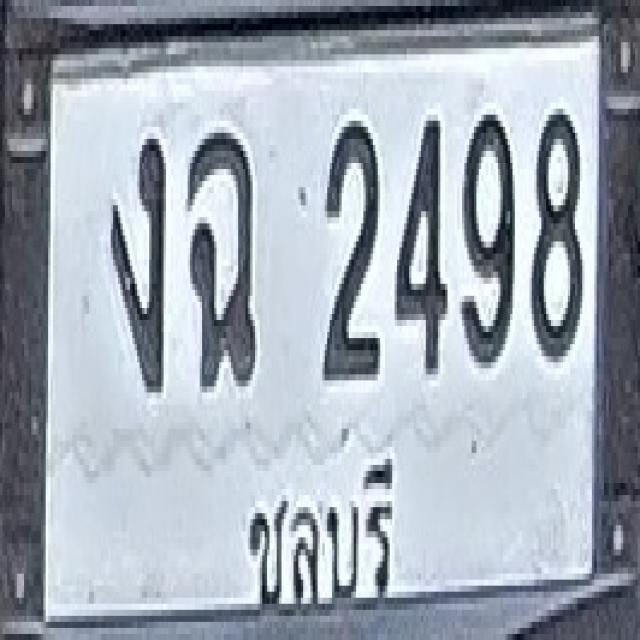-: (186, 127, 256, 386), (109, 133, 165, 392)
2: (324, 115, 379, 380)
4: (394, 115, 446, 374)
8: (531, 106, 581, 359)
9: (461, 109, 514, 362)
CBI: (236, 452, 404, 614)
